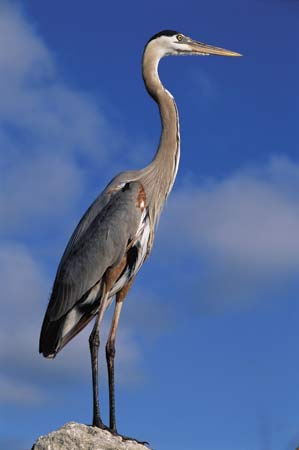heron: (38, 29, 244, 440)
